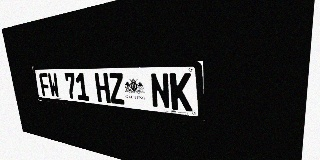1: (74, 73, 89, 101)
7: (64, 73, 78, 100)
F: (39, 73, 51, 97)
H: (94, 73, 111, 103)
K: (170, 73, 192, 112)
N: (150, 73, 171, 109)
W: (47, 73, 60, 98)
Z: (108, 73, 125, 105)
